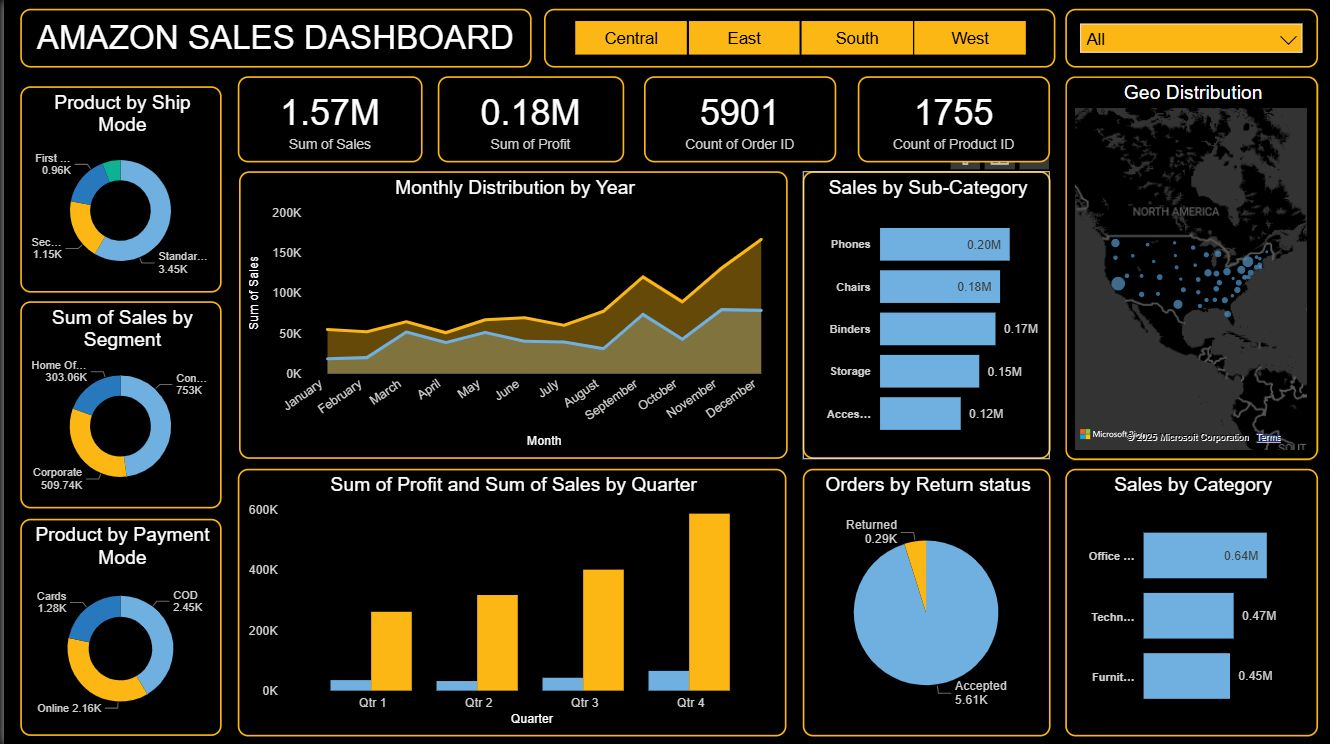

Layout of this report page (visuals, bound fields, positions):
{"tool":"powerbi","page":{"name":"Page 1","canvas":[1280,720],"ordinal":0},"visuals":[{"type":"clusteredBarChart","title":"Sales by Category","fields":{"Category":["Amazon Store Sales Data xlsx -.Category"],"Y":["Sum(Amazon Store Sales Data xlsx -.Sales)"]},"box":[1024.3,452.4,243.7,258.2],"z":0},{"type":"clusteredBarChart","title":"Sales by Sub-Category","fields":{"Category":["Amazon Store Sales Data xlsx -.Sub-Category"],"Y":["Sum(Amazon Store Sales Data xlsx -.Sales)"]},"box":[770.9,165.3,238.9,277.5],"z":1000},{"type":"donutChart","title":"Product  by Ship Mode","fields":{"Category":["Amazon Store Sales Data xlsx -.Ship Mode"],"Y":["CountNonNull(Amazon Store Sales Data xlsx -.Product ID)"]},"box":[15.7,83.2,194.2,199.1],"z":2000},{"type":"donutChart","fields":{"Y":["Sum(Amazon Store Sales Data xlsx -.Sales)"],"Category":["Amazon Store Sales Data xlsx -.Segment"]},"box":[15.7,290.8,194.2,200.3],"z":3000},{"type":"donutChart","title":"Product by Payment Mode","fields":{"Category":["Amazon Store Sales Data xlsx -.Payment Mode"],"Y":["CountNonNull(Amazon Store Sales Data xlsx -.Product ID)"]},"box":[15.7,500.7,194.2,209.9],"z":4000},{"type":"areaChart","title":"Monthly Distribution by Year","fields":{"Y":["Sum(Amazon Store Sales Data xlsx -.Sales)"],"Category":["Amazon Store Sales Data xlsx -.Order Date.Variation.Date Hierarchy.Month"],"Series":["Amazon Store Sales Data xlsx -.Order Date.Variation.Date Hierarchy.Year"]},"box":[226.8,165.3,529.6,277.5],"z":5000},{"type":"clusteredColumnChart","fields":{"Category":["Amazon Store Sales Data xlsx -.Order Date.Variation.Date Hierarchy.Quarter"],"Y":["Sum(Amazon Store Sales Data xlsx -.Profit)","Sum(Amazon Store Sales Data xlsx -.Sales)"]},"box":[225.6,452.4,529.6,258.2],"z":6000},{"type":"pieChart","title":"Orders by Return status","fields":{"Category":["Amazon Store Sales Data xlsx -.Total_returns"],"Y":["CountNonNull(Amazon Store Sales Data xlsx -.Order ID)"]},"box":[770.9,452.4,238.9,258.2],"z":7000},{"type":"map","title":"Geo Distribution","fields":{"Category":["Amazon Store Sales Data xlsx -.State"],"Size":["Sum(Amazon Store Sales Data xlsx -.Sales)"]},"box":[1024.3,73.6,243.7,370.4],"z":8000},{"type":"textbox","box":[15.7,8.4,493.4,56.7],"z":9000},{"type":"card","fields":{"Values":["Sum(Amazon Store Sales Data xlsx -.Sales)"]},"box":[225.6,73.6,178.6,83.2],"z":10000},{"type":"card","fields":{"Values":["Sum(Amazon Store Sales Data xlsx -.Profit)"]},"box":[418.6,73.6,179.8,83.2],"z":11000},{"type":"card","fields":{"Values":["CountNonNull(Amazon Store Sales Data xlsx -.Order ID)"]},"box":[617.7,73.6,185.8,83.2],"z":12000},{"type":"card","fields":{"Values":["Count(Amazon Store Sales Data xlsx -.Product ID)"]},"box":[824,73.6,185.8,83.2],"z":13000},{"type":"slicer","fields":{"Values":["Amazon Store Sales Data xlsx -.Region"]},"box":[521.2,8.4,493.4,56.7],"z":14000},{"type":"slicer","fields":{"Values":["Amazon Store Sales Data xlsx -.State"]},"box":[1024.3,8.4,243.7,56.7],"z":15000}]}

Visuals, with their boxes in screenshot pixels (x1, y1, x2, y2), scaled from the page's 1280x720 canvas onto the 1330x744 screenshot:
"Sales by Category" clusteredBarChart: 1064 467 1318 734
"Sales by Sub-Category" clusteredBarChart: 801 171 1049 458
"Product  by Ship Mode" donutChart: 16 86 218 292
donutChart - Sum(Amazon Store Sales Data xlsx -.Sales) x Amazon Store Sales Data xlsx -.Segment: 16 300 218 507
"Product by Payment Mode" donutChart: 16 517 218 734
"Monthly Distribution by Year" areaChart: 236 171 786 458
clusteredColumnChart - Amazon Store Sales Data xlsx -.Order Date.Variation.Date Hierarchy.Quarter x Sum(Amazon Store Sales Data xlsx -.Profit): 234 467 785 734
"Orders by Return status" pieChart: 801 467 1049 734
"Geo Distribution" map: 1064 76 1318 459
textbox: 16 9 529 67
card - Sum(Amazon Store Sales Data xlsx -.Sales): 234 76 420 162
card - Sum(Amazon Store Sales Data xlsx -.Profit): 435 76 622 162
card - CountNonNull(Amazon Store Sales Data xlsx -.Order ID): 642 76 835 162
card - Count(Amazon Store Sales Data xlsx -.Product ID): 856 76 1049 162
slicer - Amazon Store Sales Data xlsx -.Region: 542 9 1054 67
slicer - Amazon Store Sales Data xlsx -.State: 1064 9 1318 67
